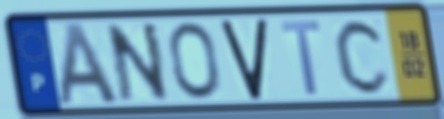A: (56, 20, 123, 109)
C: (332, 15, 393, 97)
N: (103, 20, 173, 105)
O: (166, 19, 224, 102)
T: (277, 17, 323, 98)
V: (217, 15, 270, 103)
